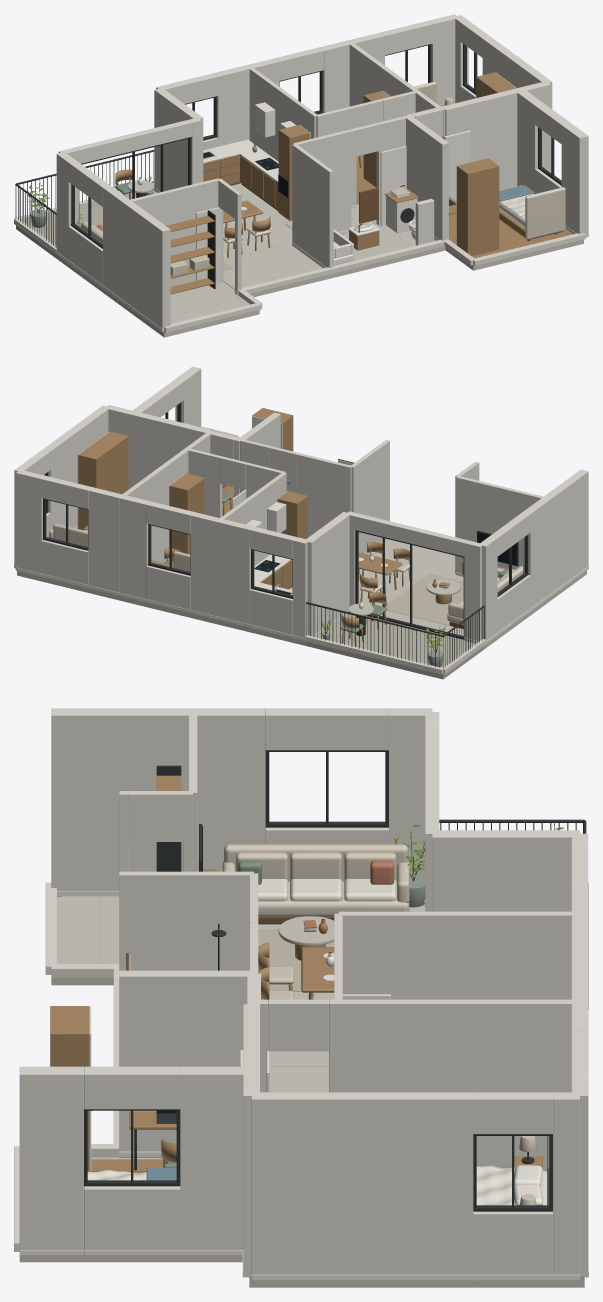
The model's file is apartment-v1.glb.
The picture shows the model from 3 angles, top to bottom: view 1: azimuth 30°, elevation 25°; view 2: azimuth 150°, elevation 25°; view 3: azimuth 270°, elevation 25°; orthographic projection. The views are drawn at different scales.
Visible parts, largest first — view 1: RV_West facade end, RV_Main south end, RV_Bath west, RV_Guest wardrobe carcass, RV_Bath protected wall, RV_Storage north, RV_Balcony kitchen return, RV_Apartment slab, RV_Protected east end, RV_Kitchen child partition end, RV_Bath north pier 0, RV_North kitchen end (+54 smaller); view 2: RV_West facade end, RV_Balcony kitchen return, RV_Terrace slab, RV_Main south end, RV_Storage north, RV_North kitchen end, RV_Bath north pier 0, RV_North main pier 0, RV_Main east end, RV_Bath west, RV_North child pier 0, RV_North child end (+39 smaller); view 3: RV_Main east end, RV_West facade end, RV_Main partition pier 0, RV_Kitchen child partition end, RV_Bath protected wall, RV_Bath west, RV_Protected east end, RV_Protected east pier 0, RV_Balcony kitchen return, RV_Protected east sill 0, RV_West facade pier 0, RV_West facade lintel 0 (+36 smaller).
Boxes of the visible parts, x1,y1,x2,y2 form: RV_West facade end: (103, 186, 170, 332); RV_Main south end: (442, 82, 550, 190); RV_Bath west: (292, 144, 333, 267); RV_Guest wardrobe carcass: (457, 158, 499, 255); RV_Bath protected wall: (405, 115, 448, 240); RV_Storage north: (130, 178, 218, 286); RV_Balcony kitchen return: (154, 88, 203, 191); RV_Apartment slab: (58, 204, 583, 337); RV_Protected east end: (561, 123, 588, 237); RV_Kitchen child partition end: (249, 67, 316, 161); RV_Bath north pier 0: (293, 130, 351, 234); RV_North kitchen end: (214, 65, 250, 146); RV_West facade end: (523, 469, 588, 607); RV_Balcony kitchen return: (304, 512, 350, 636); RV_Terrace slab: (306, 614, 484, 679); RV_Main south end: (107, 405, 209, 489); RV_Storage north: (456, 476, 543, 576); RV_North kitchen end: (217, 519, 253, 627); RV_Bath north pier 0: (296, 453, 351, 537); RV_North main pier 0: (88, 487, 123, 595); RV_Main east end: (43, 405, 109, 529); RV_Bath west: (351, 440, 389, 553); RV_North child pier 0: (190, 512, 220, 619); RV_North child end: (120, 495, 150, 602); RV_Main east end: (251, 1092, 473, 1280); RV_West facade end: (51, 708, 265, 896); RV_Main partition pier 0: (329, 999, 579, 1171); RV_Kitchen child partition end: (338, 911, 579, 999); RV_Bath protected wall: (119, 970, 253, 1157); RV_Bath west: (119, 871, 253, 970); RV_Protected east end: (19, 1066, 83, 1255); RV_Protected east pier 0: (180, 1066, 251, 1255); RV_Balcony kitchen return: (432, 830, 579, 911); RV_Protected east sill 0: (84, 1186, 180, 1255); RV_West facade pier 0: (389, 708, 432, 876); RV_West facade lintel 0: (265, 708, 388, 750).
Size of the model in its own units: 13.17 by 3.01 by 8.18.
